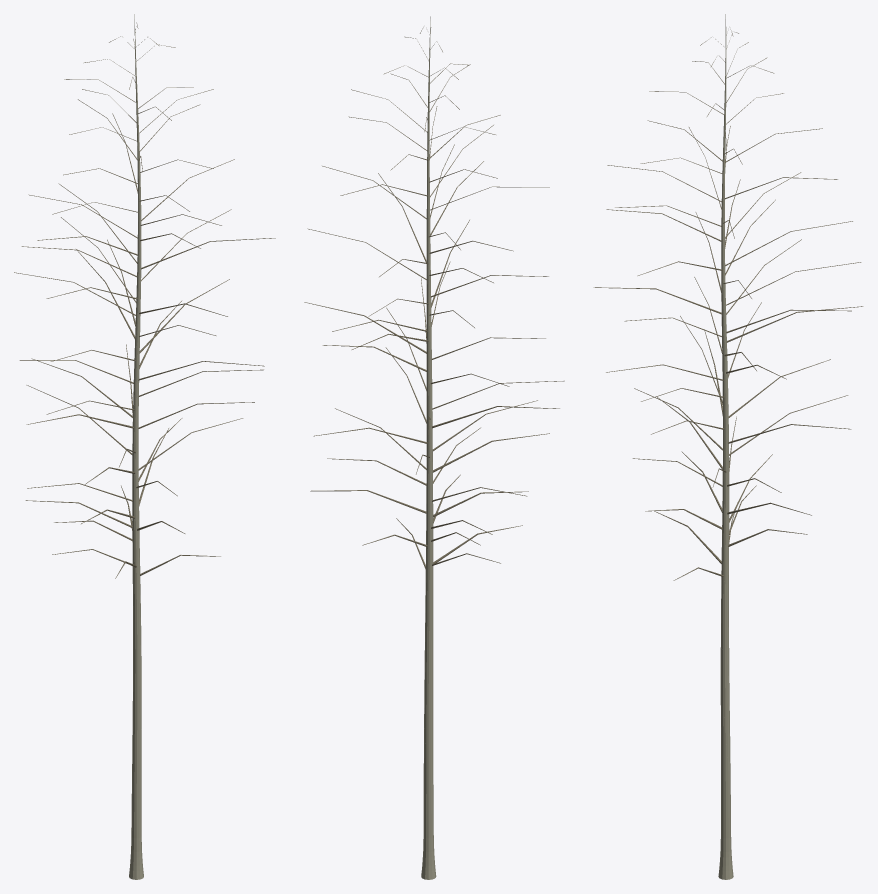
3 views of the same model, side by side, from view 1: azimuth 30°, elevation 25°; view 2: azimuth 150°, elevation 25°; view 3: azimuth 270°, elevation 25° (orthographic).
Visible parts, largest first — view 1: tree_node; view 2: tree_node; view 3: tree_node.
Part boxes in pixels (<box>): tree_node: <box>14,14,275,879</box>; tree_node: <box>304,16,564,879</box>; tree_node: <box>593,14,863,879</box>.
Size of the model in its own units: 7.24 by 7.4 by 26.
